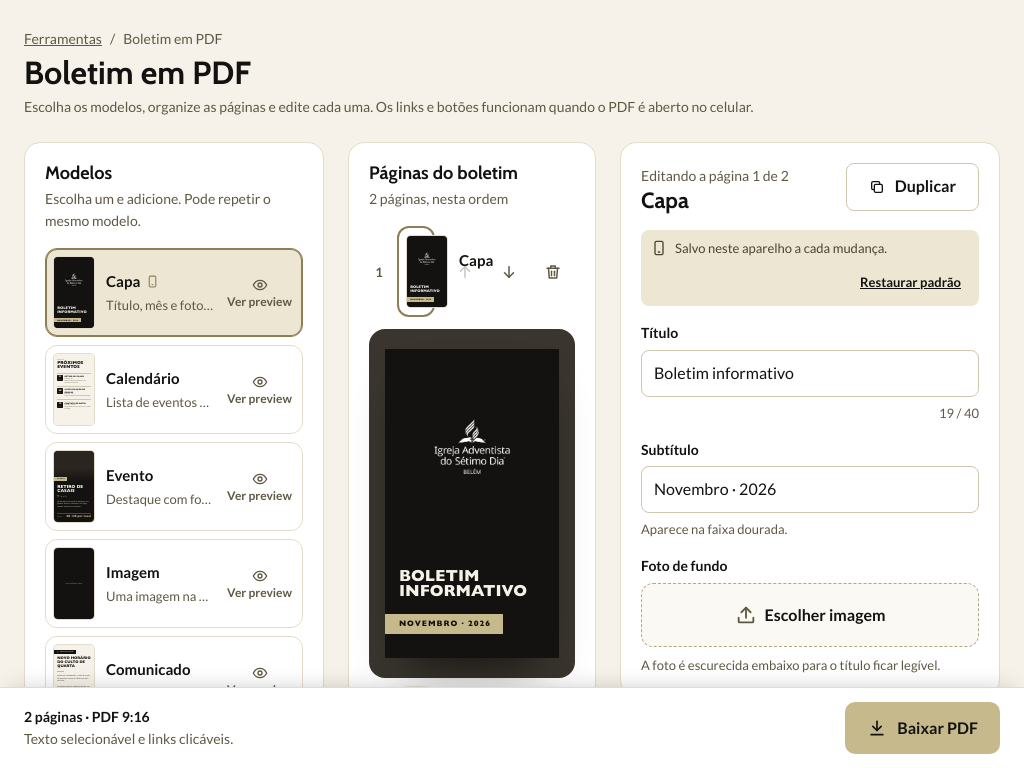
Test case: BulletinEditor › downloads the PDF with the pages in order
Click the button "Baixar PDF": [923, 728] box [845,702,1000,754]
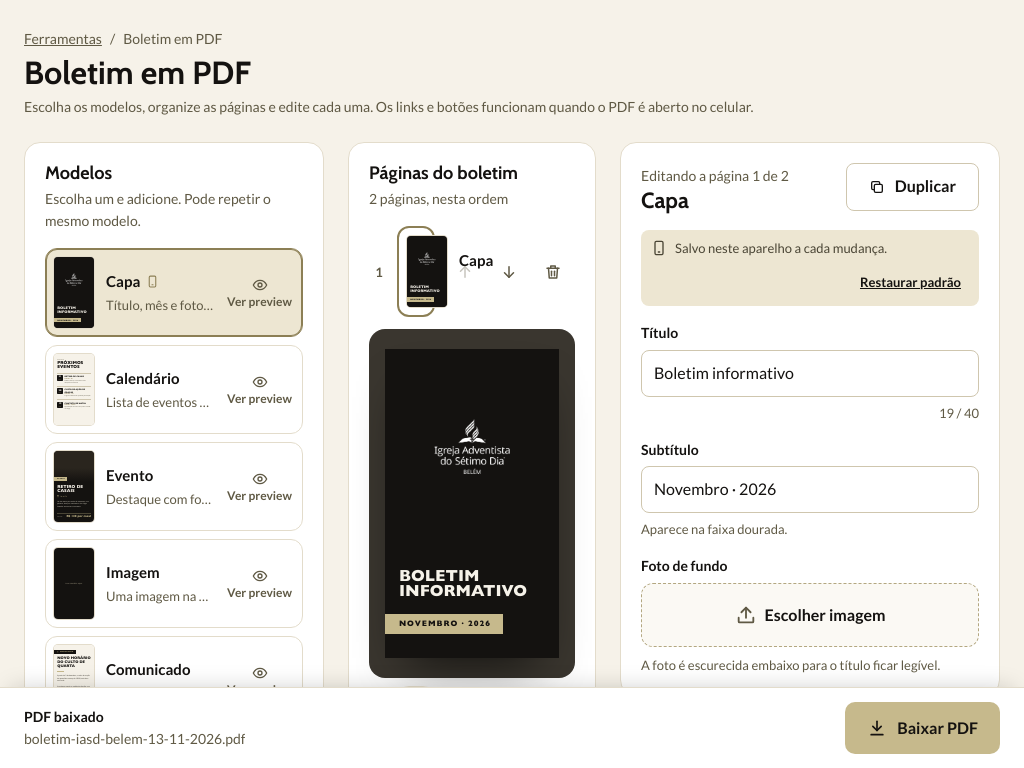
Now the text "PDF baixado" is shown, box [24,708,104,725]
